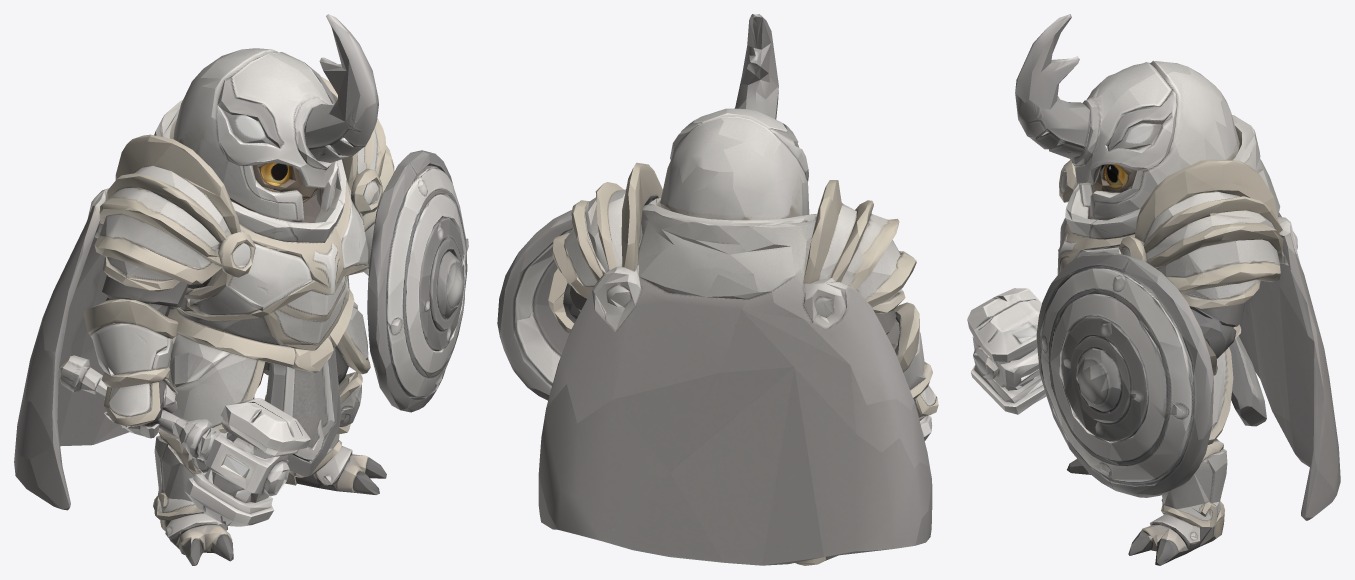
3 renders of one model, left to right at view 1: azimuth 30°, elevation 25°; view 2: azimuth 150°, elevation 25°; view 3: azimuth 270°, elevation 25°, orthographic. The views are drawn at different scales.
Size of the model in its own units: 1.7 by 1.9 by 1.28.
Materials: 1 (1 with a texture image).
